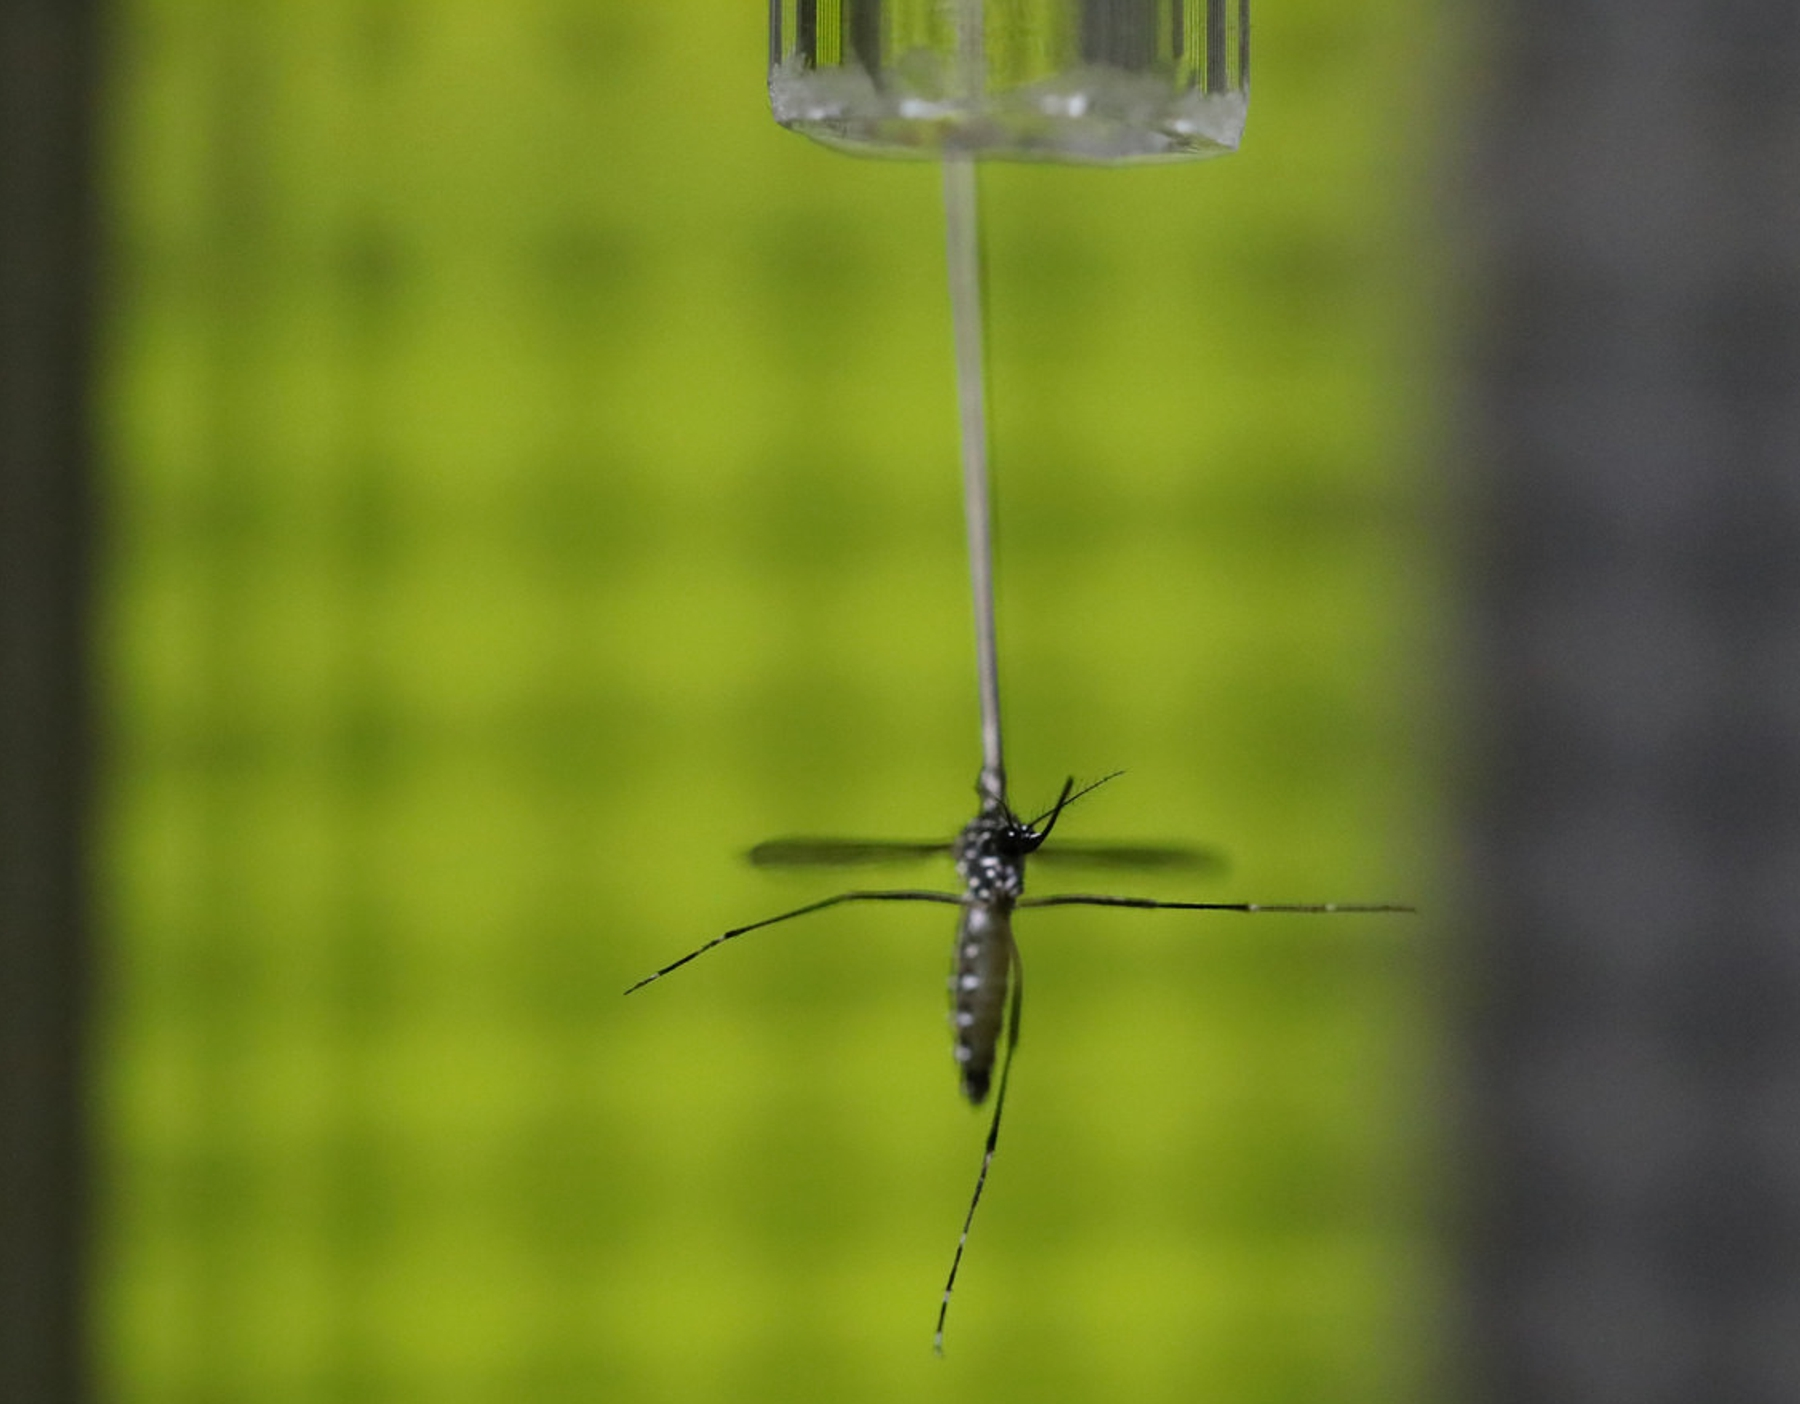mosquito: (558, 729, 1479, 1316)
